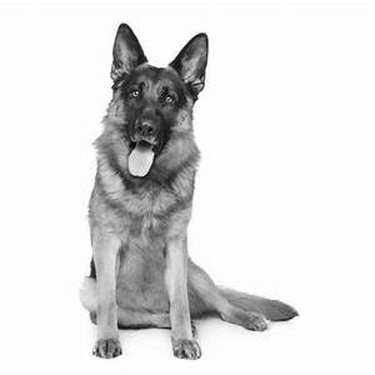dog: (72, 13, 306, 365)
